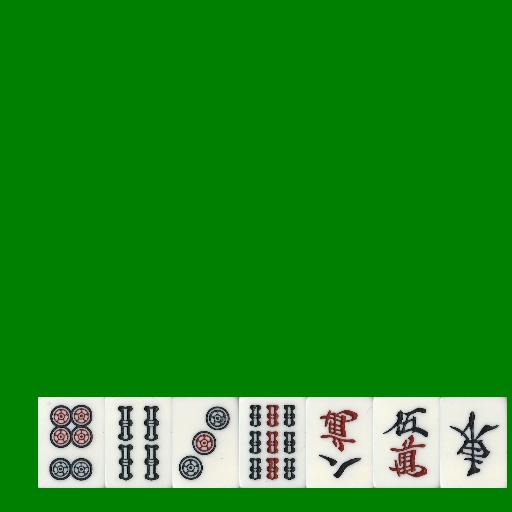3p: (172, 397, 239, 488)
4s: (105, 397, 172, 488)
5m: (373, 397, 440, 488)
6p: (38, 397, 105, 488)
8m: (306, 397, 373, 488)
9s: (239, 397, 306, 488)
east: (440, 397, 507, 488)
